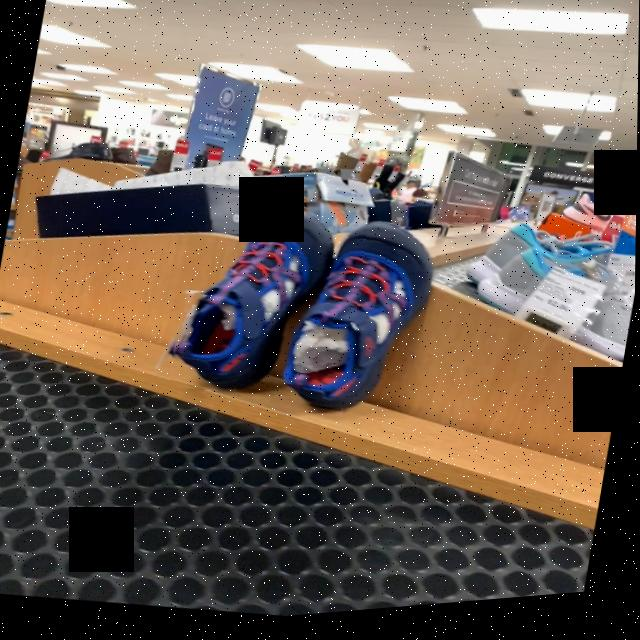shoe: (281, 233, 435, 420), (174, 218, 335, 396)
